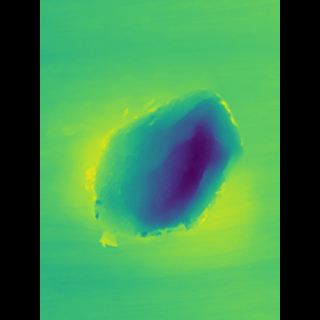Loch: (77, 81, 227, 254)
